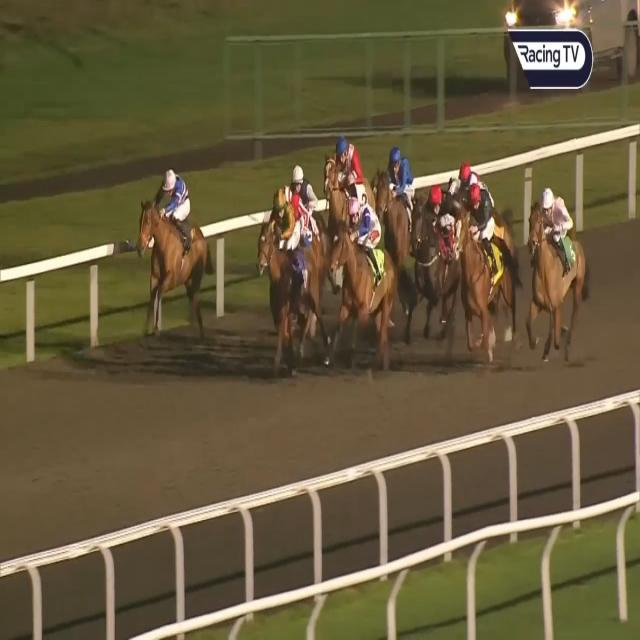horses-racing: (330, 193, 408, 354), (132, 173, 208, 332), (525, 181, 591, 351), (262, 187, 322, 362), (401, 178, 466, 318), (456, 182, 499, 344), (277, 180, 314, 232), (380, 144, 409, 209), (331, 133, 363, 191), (291, 169, 320, 226), (455, 160, 484, 188)
